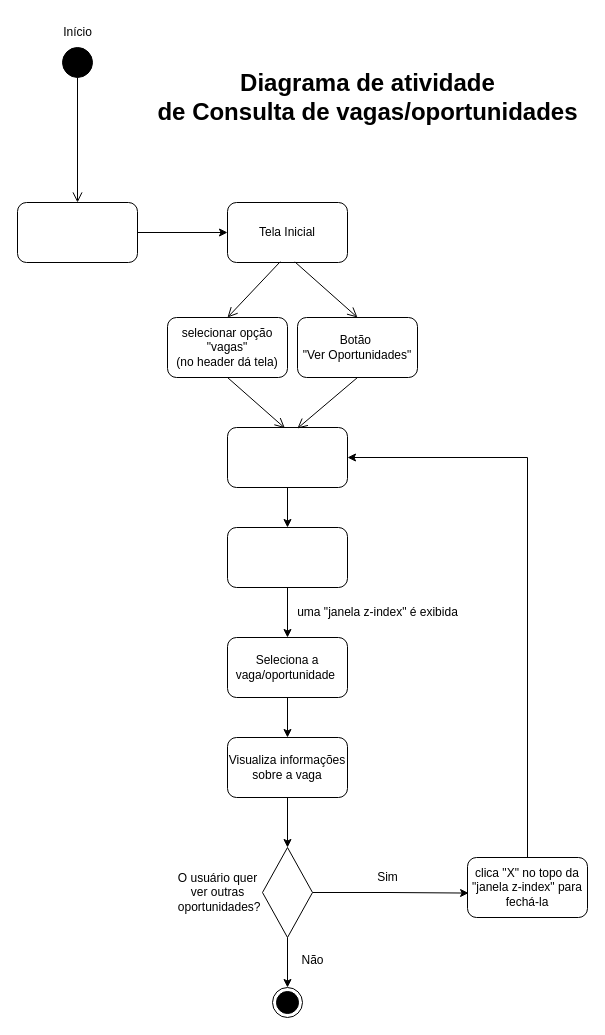
Some shapes in this 605 by 1035 pixel diagram are drawn without their labels. Each missing label, with the centre of its shape:
"Seleciona a instituição" belongs at [287,557].
"Tela de vagas" belongs at [287,457].
"Usuário entra no site" belongs at [77,232].
